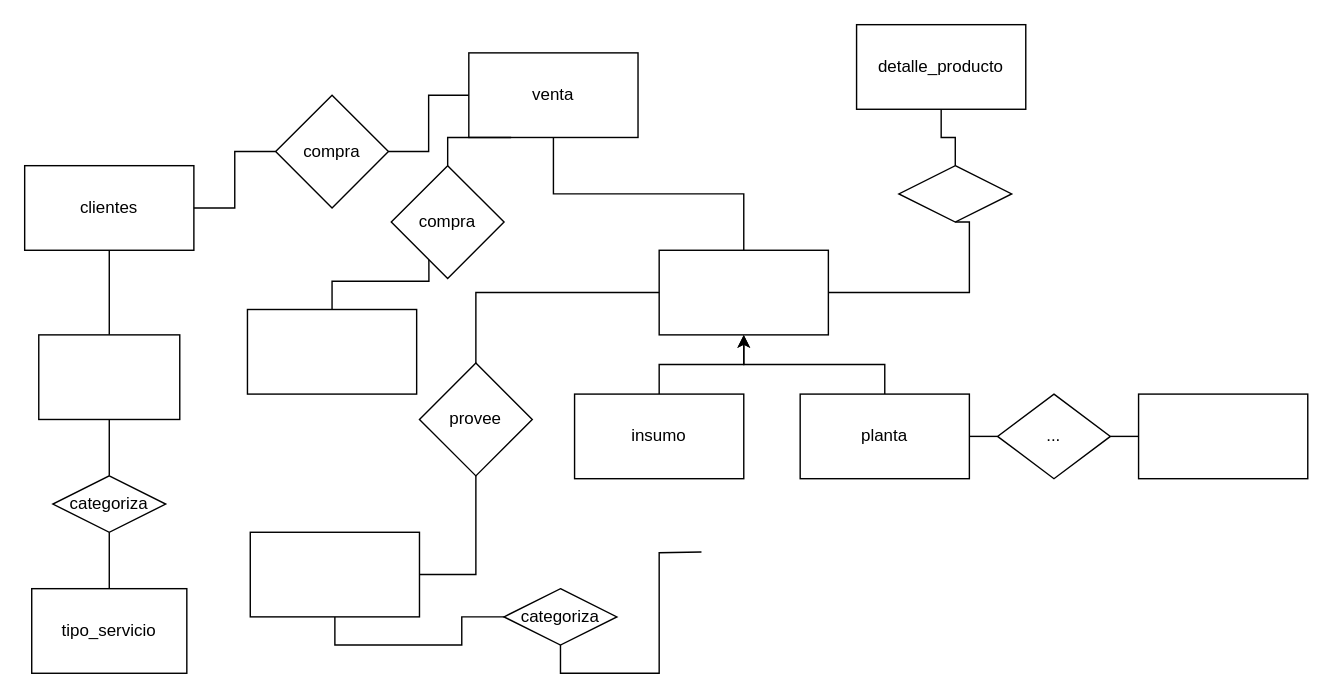
This 1332x699 diagram has some shape labels left out. The centre of each missing label's shape, as x and y in pixels:
"detalla" goes at pixel 954 193.
"Especie" goes at pixel 1222 436.
"producto" goes at pixel 743 292.
"proveedor" goes at pixel 334 574.
"servicio" goes at pixel 108 376.
"vendedor" goes at pixel 331 351.
